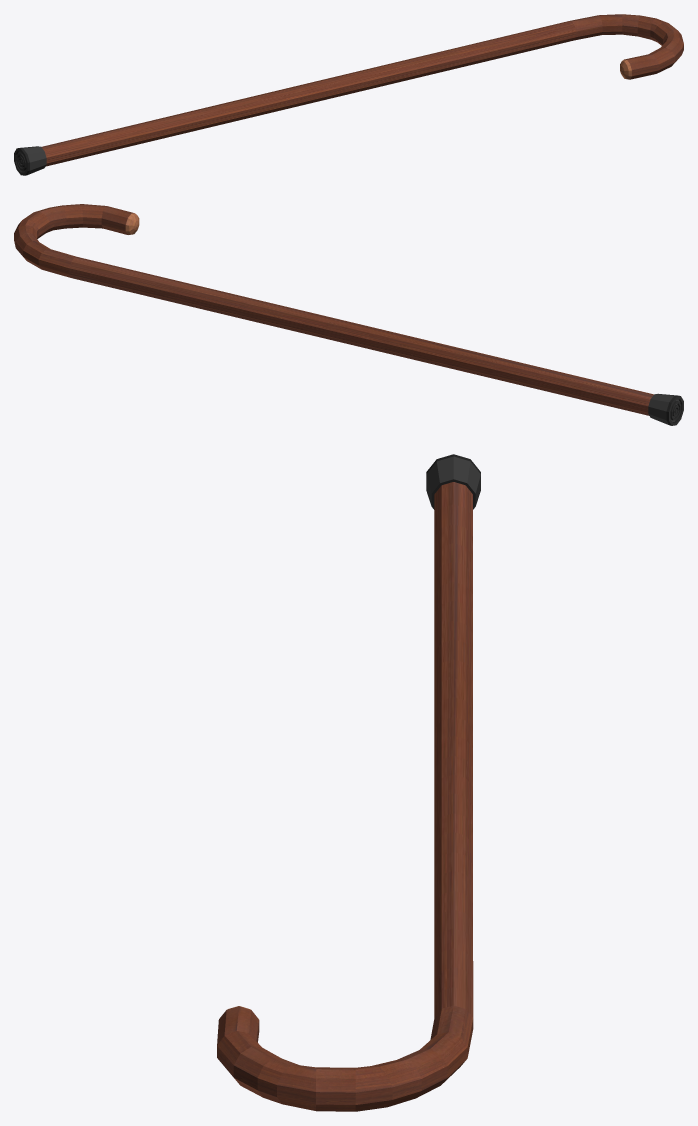
The model's file is WorldItem_WalkingStick.fbx.
3 views of the same model, one above another, from view 1: azimuth 30°, elevation 25°; view 2: azimuth 150°, elevation 25°; view 3: azimuth 270°, elevation 25° (orthographic). The views are drawn at different scales.
Parts seen in each view (by area): view 1: ZomboidWalkingStick; view 2: ZomboidWalkingStick; view 3: ZomboidWalkingStick.
Boxes of the visible parts, x1,y1,x2,y2 form: ZomboidWalkingStick: (14, 14, 683, 175); ZomboidWalkingStick: (14, 204, 683, 425); ZomboidWalkingStick: (217, 454, 480, 1111).
Size of the model in its own units: 0.5741 by 0.0233 by 0.1047.
